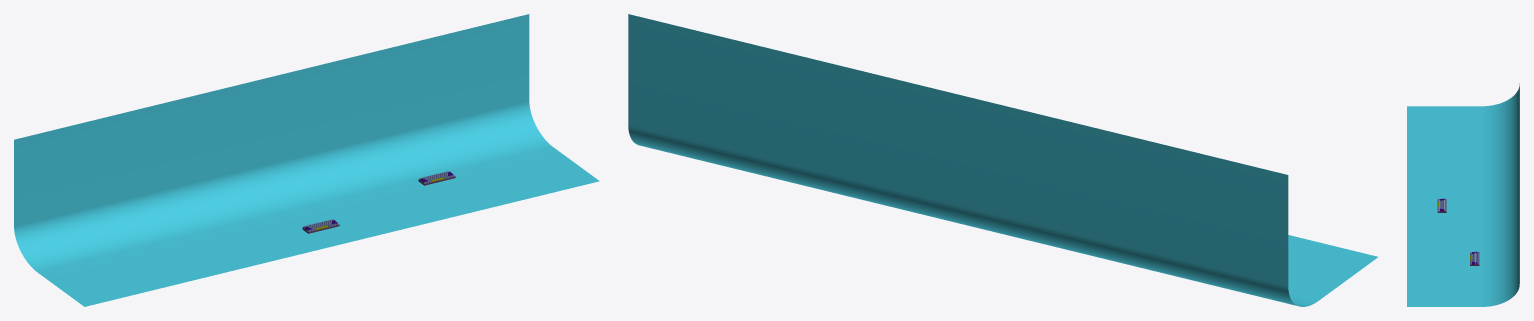
Rendered from keyboard.fbx.
The picture shows the model from 3 angles, left to right: view 1: azimuth 30°, elevation 25°; view 2: azimuth 150°, elevation 25°; view 3: azimuth 270°, elevation 25°; orthographic projection. The views are drawn at different scales.
Parts seen in each view (by area): view 1: Plane; view 2: Plane; view 3: Plane, keyboard object.
Part boxes in pixels (x1,y1,x2,y2): Plane: (14,14,599,306); Plane: (628,14,1377,306); Plane: (1407,83,1519,306); keyboard object: (1470,251,1479,265).
Size of the model in its own units: 12453 by 2671 by 2954.
